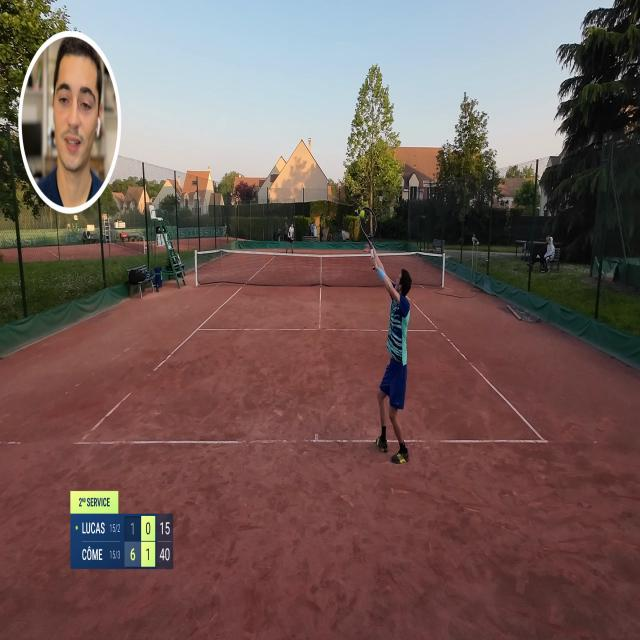ball: (360, 209, 366, 219)
